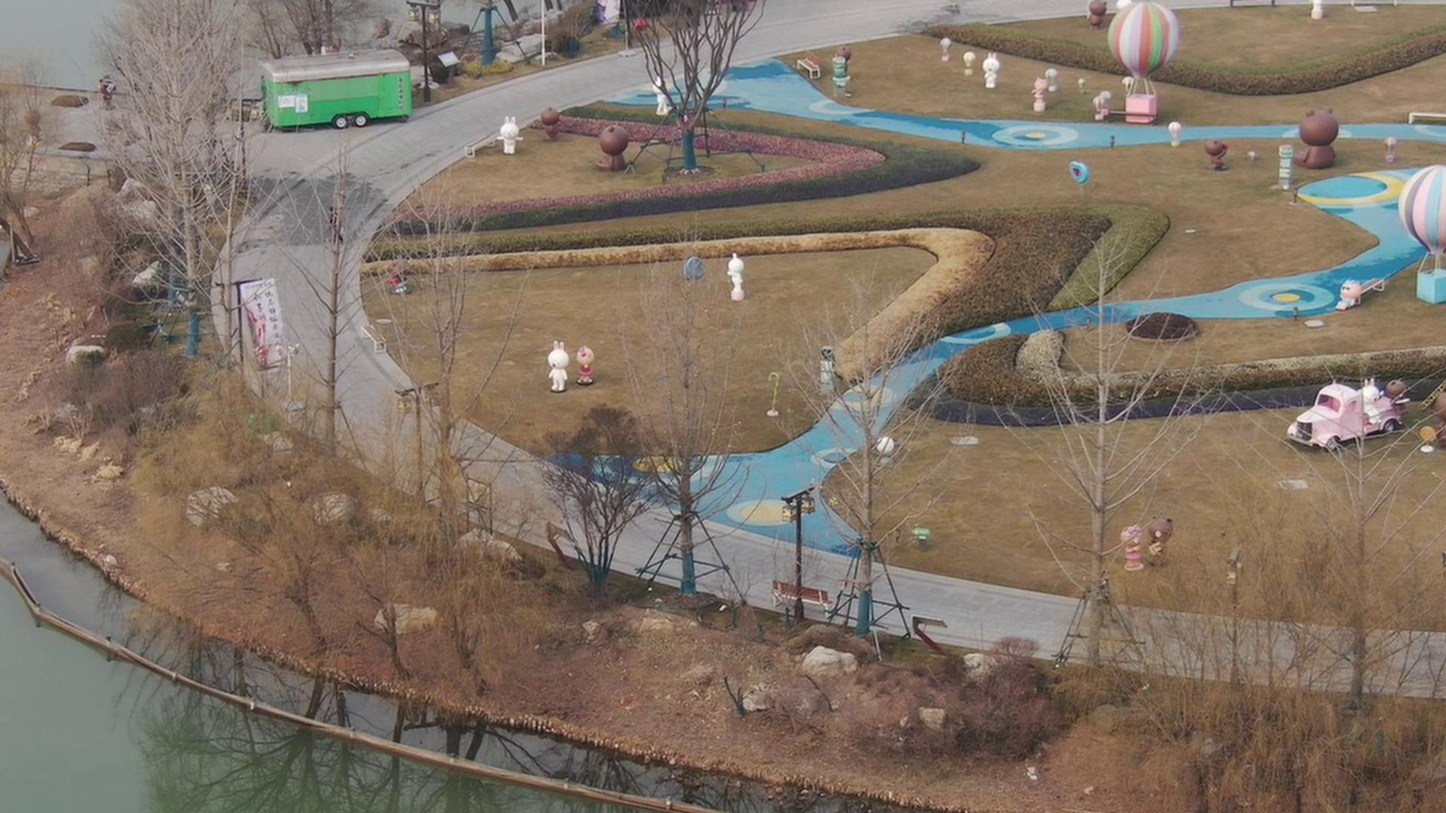human: (325, 207, 351, 250)
